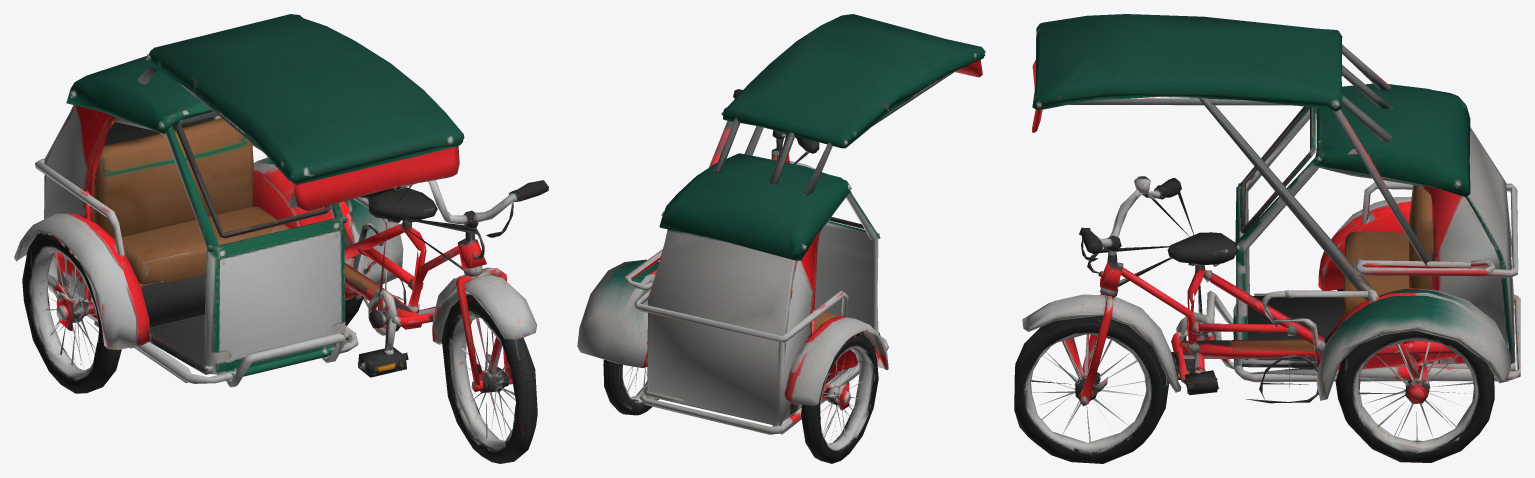
File: pedicab.glb
The picture shows the model from 3 angles, left to right: view 1: azimuth 30°, elevation 25°; view 2: azimuth 150°, elevation 25°; view 3: azimuth 270°, elevation 25°; orthographic projection. The views are drawn at different scales.
Parts seen in each view (by area): view 1: Mesh0; view 2: Mesh0; view 3: Mesh0.
Boxes of the visible parts, x1=… form: Mesh0: x1=14, y1=14, x2=548, y2=463; Mesh0: x1=577, y1=14, x2=985, y2=463; Mesh0: x1=1014, y1=14, x2=1520, y2=463.
Bounding box in the file's own units: 0.6826 × 0.7788 × 1.
Materials: 1 (1 with a texture image).
